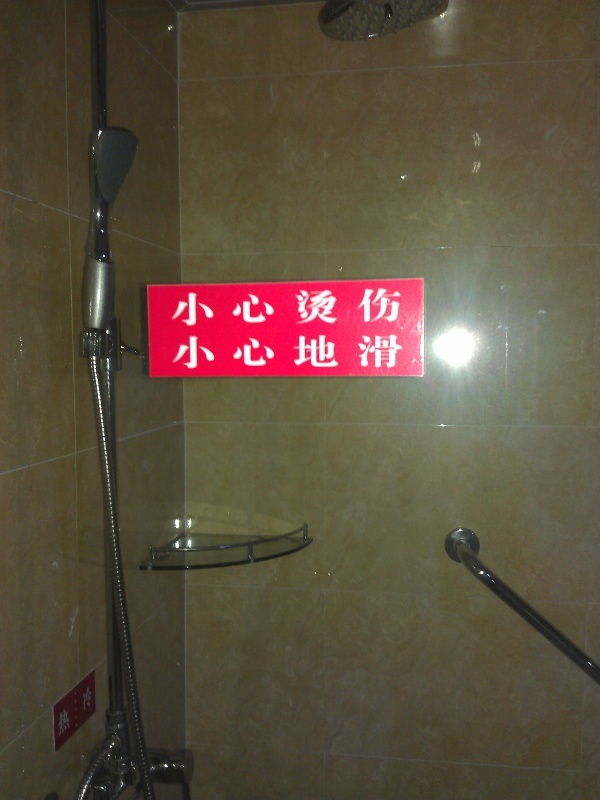text: (177, 287, 192, 328), (193, 287, 208, 328), (209, 287, 224, 328), (225, 287, 240, 328), (241, 287, 256, 328), (257, 287, 272, 328), (273, 287, 288, 328), (289, 287, 304, 328), (305, 287, 320, 328), (321, 287, 336, 328), (337, 287, 352, 328), (353, 287, 368, 328), (369, 287, 384, 328), (385, 287, 400, 328), (177, 332, 192, 372), (193, 332, 208, 372), (209, 332, 224, 372), (225, 332, 240, 372), (241, 332, 256, 372), (257, 332, 272, 372), (273, 332, 288, 372), (289, 332, 304, 372), (305, 332, 320, 372), (321, 332, 336, 372), (337, 332, 352, 372), (353, 332, 368, 372), (369, 332, 384, 372), (385, 332, 400, 372), (81, 682, 96, 714), (170, 287, 176, 328), (57, 703, 64, 738), (65, 703, 72, 738), (172, 332, 176, 372), (401, 332, 405, 372), (401, 287, 404, 328)
